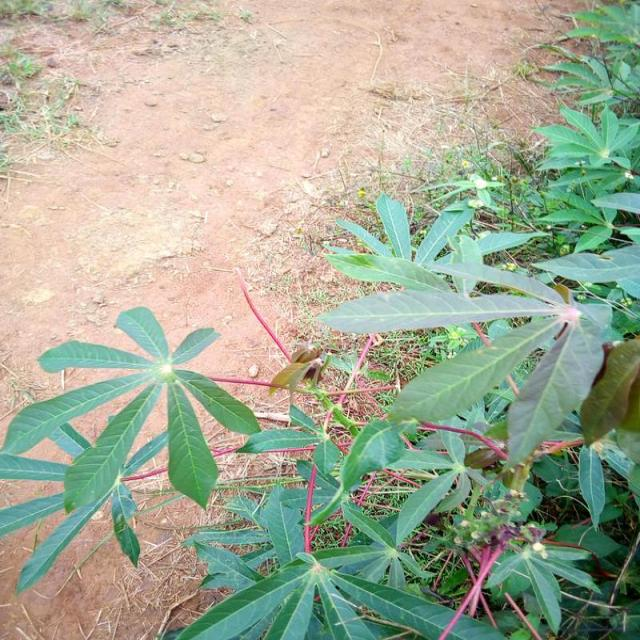cassava leaf: (0, 303, 262, 595)
